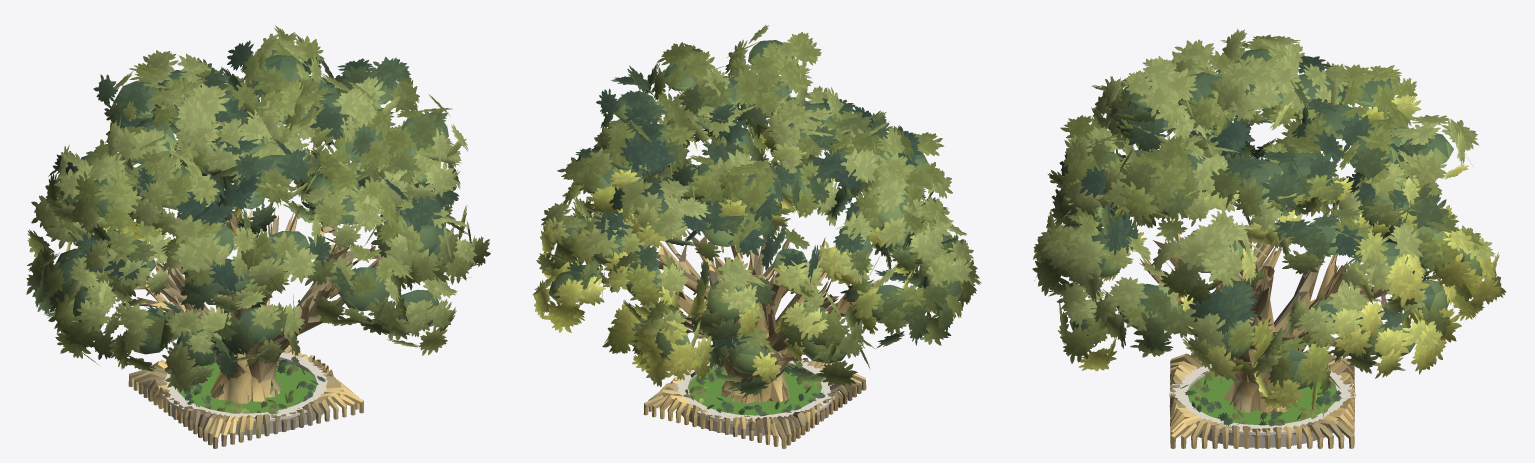
File: tree_banyan.glb
3 renders of one model, left to right at view 1: azimuth 30°, elevation 25°; view 2: azimuth 150°, elevation 25°; view 3: azimuth 270°, elevation 25°, orthographic. The views are drawn at different scales.
Visible parts, largest first — view 1: canopy, body; view 2: canopy, body; view 3: canopy, body.
Part boxes in pixels (<box>): canopy: <box>26,25,490,392</box>; body: <box>128,204,388,448</box>; canopy: <box>532,25,981,398</box>; body: <box>601,228,879,448</box>; canopy: <box>1032,29,1506,412</box>; body: <box>1140,214,1389,448</box>.
Size of the model in its own units: 14.44 by 11.38 by 13.68.
3 materials, 1 textured.
